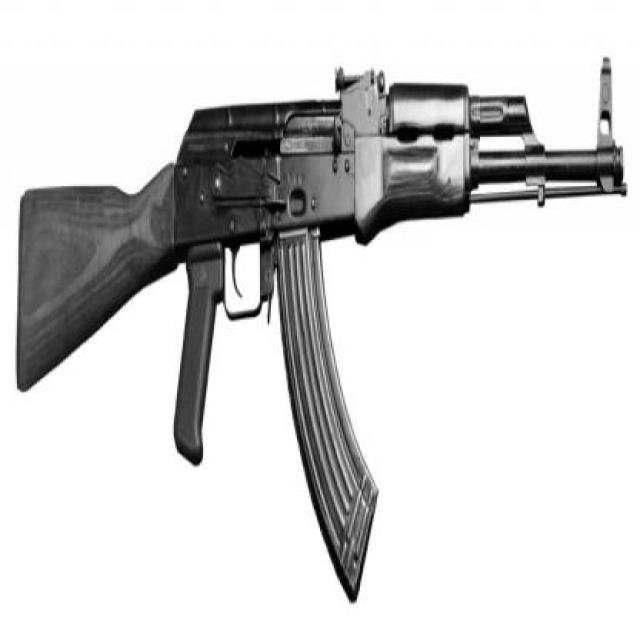weapon: (15, 55, 628, 606)
